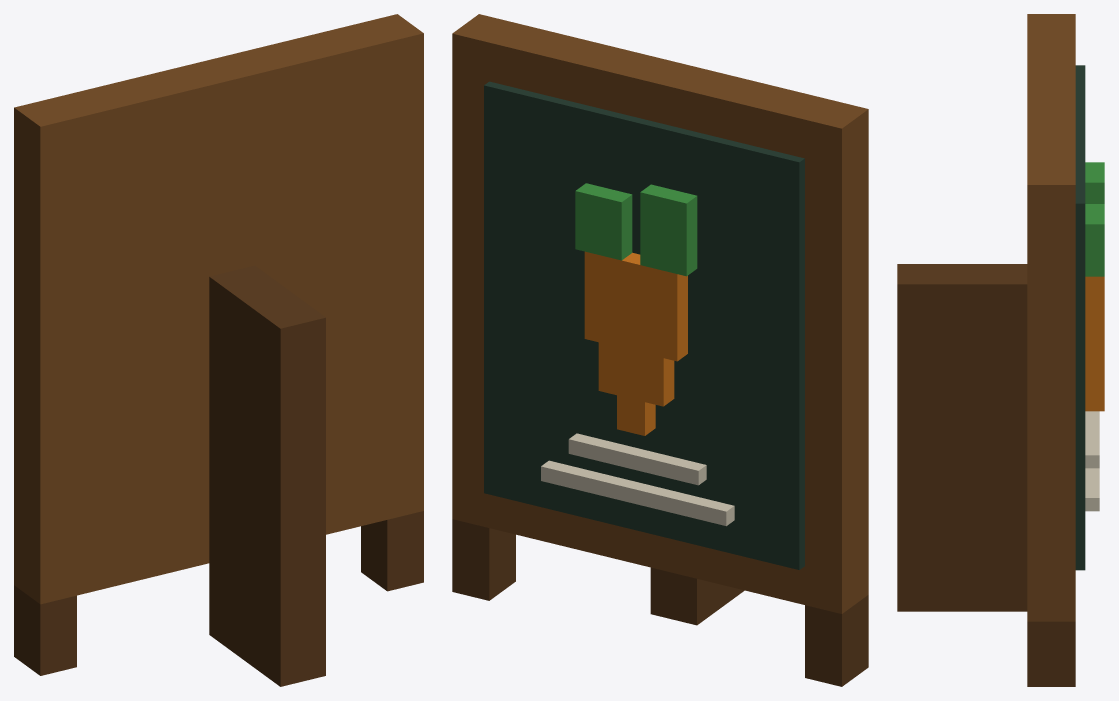
File: cp-chalkboard-carrot.glb
The picture shows the model from 3 angles, left to right: view 1: azimuth 30°, elevation 25°; view 2: azimuth 150°, elevation 25°; view 3: azimuth 270°, elevation 25°; orthographic projection. The views are drawn at different scales.
Visible parts, largest first — view 1: box-prop; view 2: box-prop; view 3: box-prop.
Part boxes in pixels (x1,y1,x2,y2): box-prop: (14, 14, 423, 686); box-prop: (452, 14, 868, 686); box-prop: (897, 14, 1104, 686).
Bounding box in the file's own units: 0.84 × 1.15 × 0.43.
